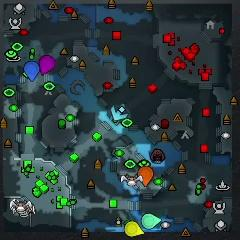p1: (24, 62, 39, 82)
p2: (142, 214, 162, 229)
p3: (39, 55, 56, 75)
p4: (124, 220, 144, 237)
p5: (138, 166, 154, 187)
x3: (111, 104, 128, 123)
